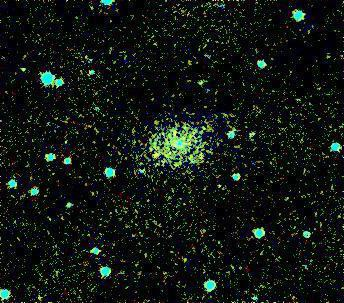star: (142, 139, 172, 169)
